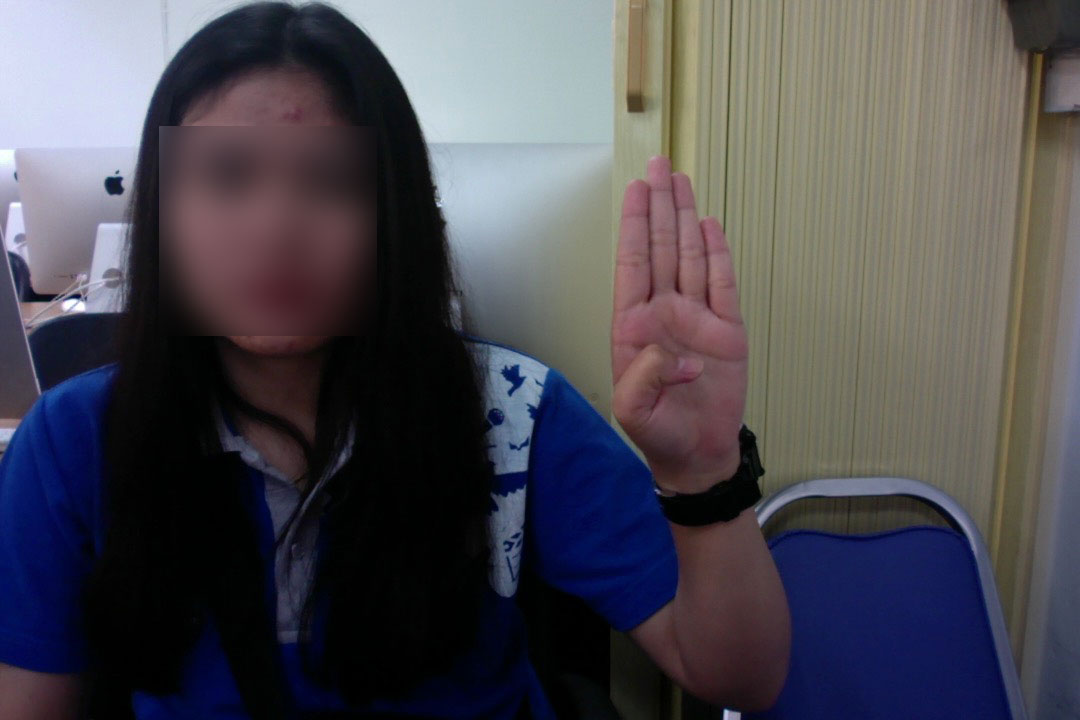bor: (600, 147, 755, 477)
